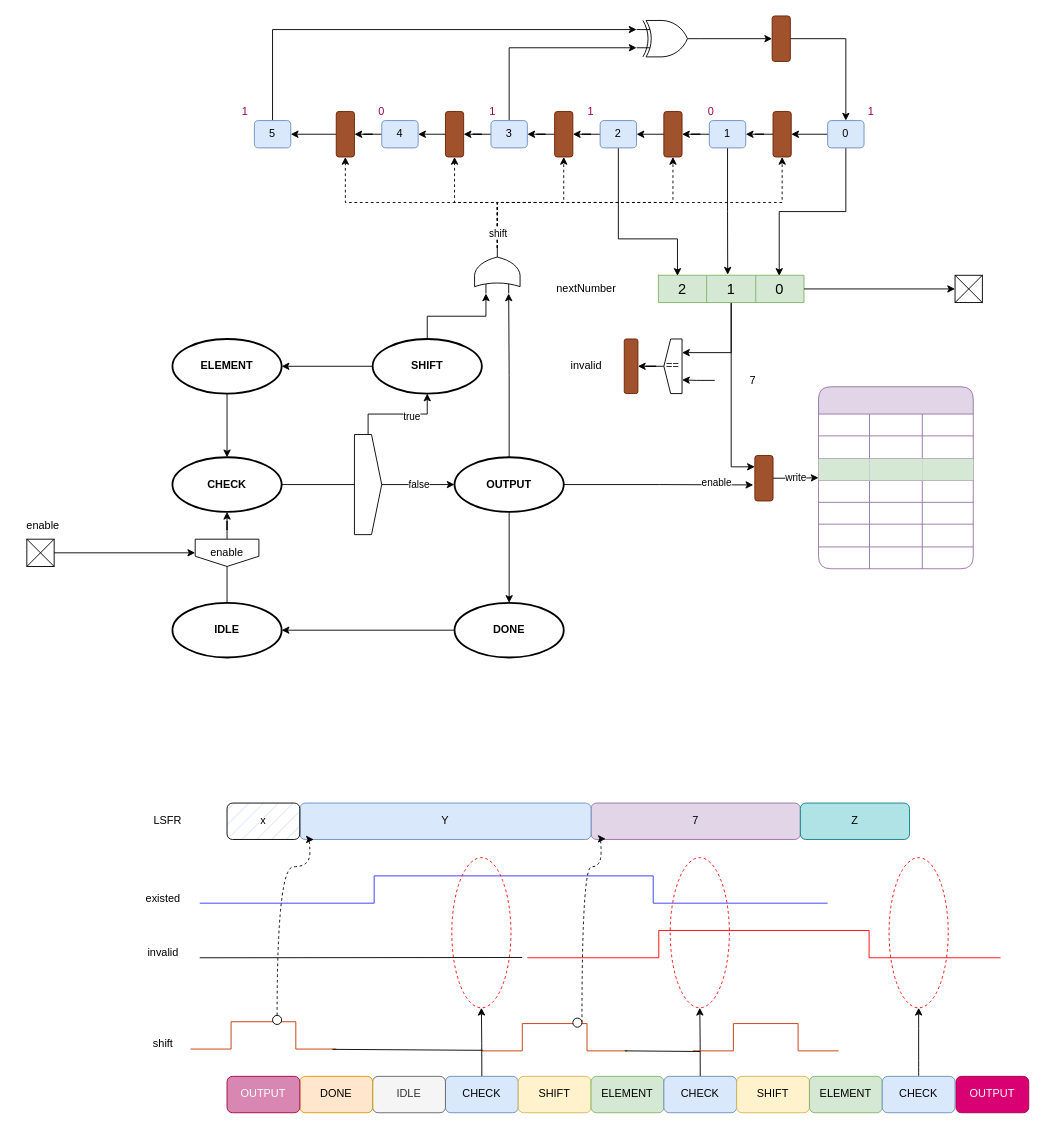
Some shapes in this 1045 by 1129 pixel diagram are drawn without their labels. Here are the shapes that lost their labels. From the top down, the box of each, then its label:
(354, 434, 382, 535): existed || invalid
(818, 386, 973, 569): generatedNumbers
